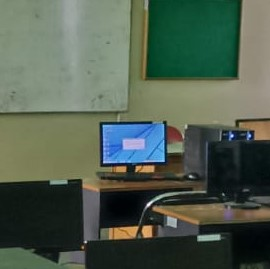monitor: (135, 139, 270, 238), (206, 140, 270, 201), (99, 121, 167, 167)
